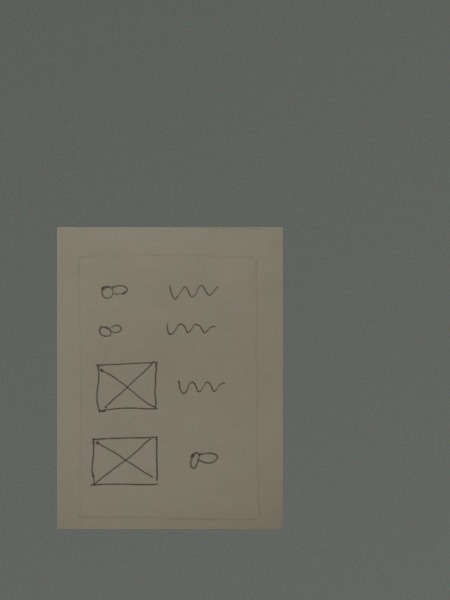image: (86, 433, 164, 492), (93, 356, 168, 417)
switch: (181, 442, 223, 474), (95, 276, 134, 302), (94, 316, 127, 341)
text: (161, 279, 227, 304), (171, 372, 228, 400), (160, 317, 222, 340)
